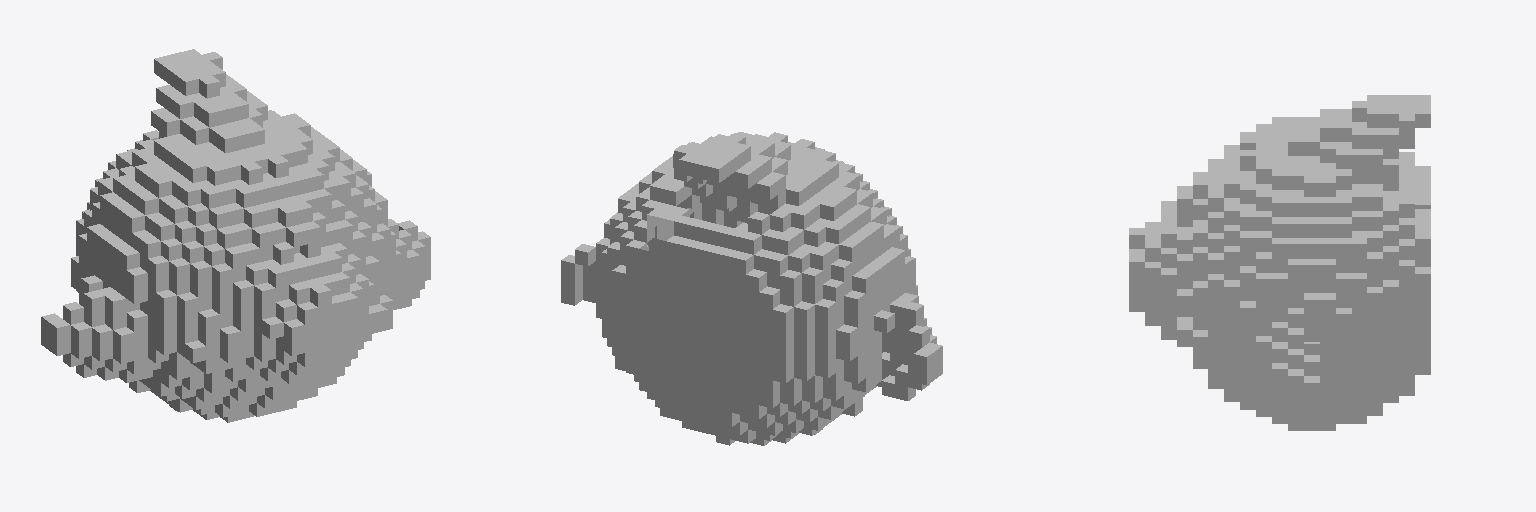
The model's file is vertexColorTest.obj.
3 renders of one model, left to right at view 1: azimuth 30°, elevation 25°; view 2: azimuth 150°, elevation 25°; view 3: azimuth 270°, elevation 25°, orthographic.
Visible parts, largest first — view 1: _Combined_Mesh_[Voxel_Mesh]; view 2: _Combined_Mesh_[Voxel_Mesh]; view 3: _Combined_Mesh_[Voxel_Mesh].
Part boxes in pixels (bbox=[...]): _Combined_Mesh_[Voxel_Mesh]: bbox=[41, 49, 430, 422]; _Combined_Mesh_[Voxel_Mesh]: bbox=[561, 132, 942, 445]; _Combined_Mesh_[Voxel_Mesh]: bbox=[1129, 95, 1430, 430].
Size of the model in its own units: 1.38 by 1.05 by 0.9676.